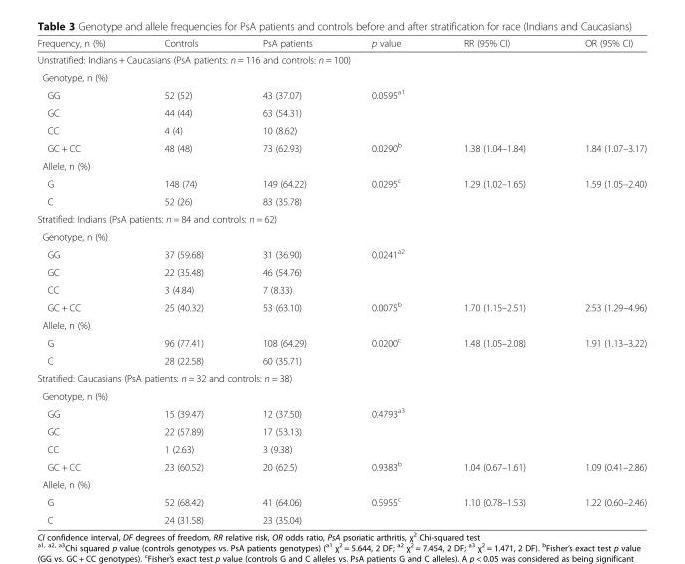table: (36, 37, 646, 525)
table column: (433, 37, 554, 525), (232, 37, 341, 525), (36, 37, 134, 525), (134, 37, 232, 525), (341, 37, 433, 525), (554, 37, 646, 525)
table column header: (36, 37, 646, 51)
table projected row header: (36, 209, 646, 227), (36, 51, 646, 68), (36, 68, 646, 85), (36, 156, 646, 173), (36, 227, 646, 244), (36, 369, 646, 386), (36, 386, 646, 403), (36, 475, 646, 492), (36, 316, 646, 332)
table row: (36, 173, 646, 192), (36, 297, 646, 316), (36, 332, 646, 351), (36, 403, 646, 422), (36, 456, 646, 475), (36, 85, 646, 103), (36, 103, 646, 121), (36, 138, 646, 156), (36, 209, 646, 227), (36, 244, 646, 262), (36, 262, 646, 280), (36, 351, 646, 369), (36, 492, 646, 510), (36, 51, 646, 68), (36, 68, 646, 85), (36, 121, 646, 138), (36, 156, 646, 173), (36, 192, 646, 209), (36, 227, 646, 244), (36, 280, 646, 297), (36, 369, 646, 386), (36, 386, 646, 403), (36, 422, 646, 439), (36, 439, 646, 456), (36, 475, 646, 492), (36, 316, 646, 332), (36, 510, 646, 525), (36, 37, 646, 51)
table spanning cell: (341, 85, 433, 138), (341, 244, 433, 297), (341, 403, 433, 456), (433, 332, 554, 369), (433, 173, 554, 209), (433, 492, 554, 525), (341, 332, 433, 369), (554, 332, 646, 369), (341, 173, 433, 209), (554, 173, 646, 209), (341, 492, 433, 525), (554, 492, 646, 525)
